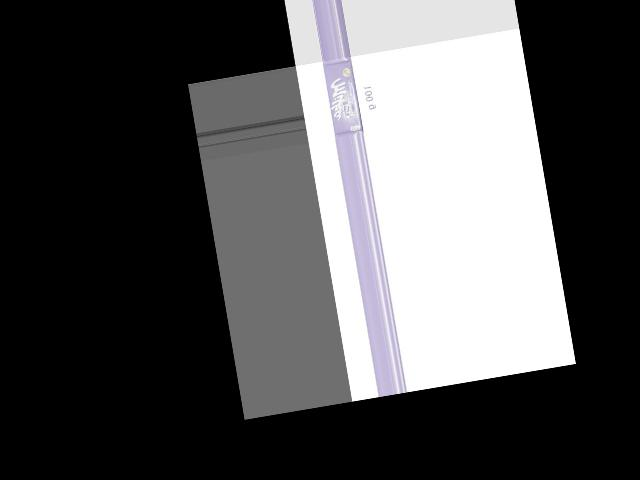chocolate: (322, 58, 369, 139)
